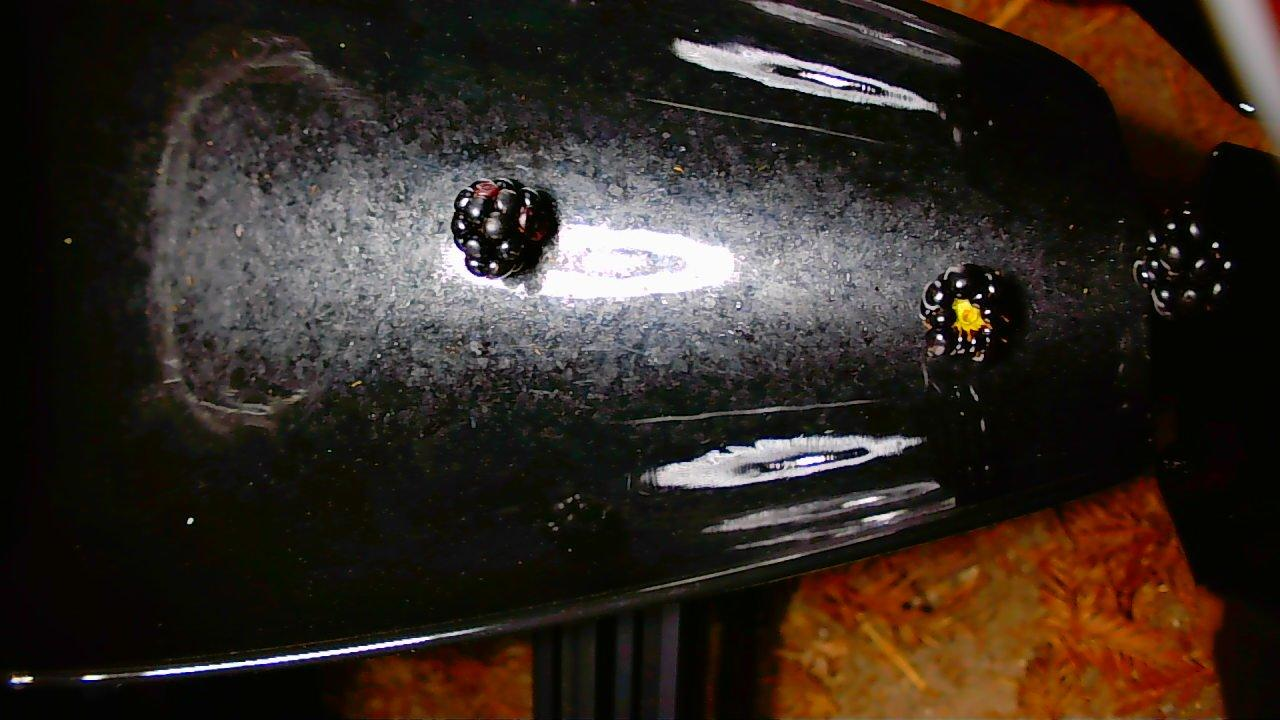berry: (1133, 204, 1233, 317), (450, 178, 557, 278), (919, 263, 1016, 362)
